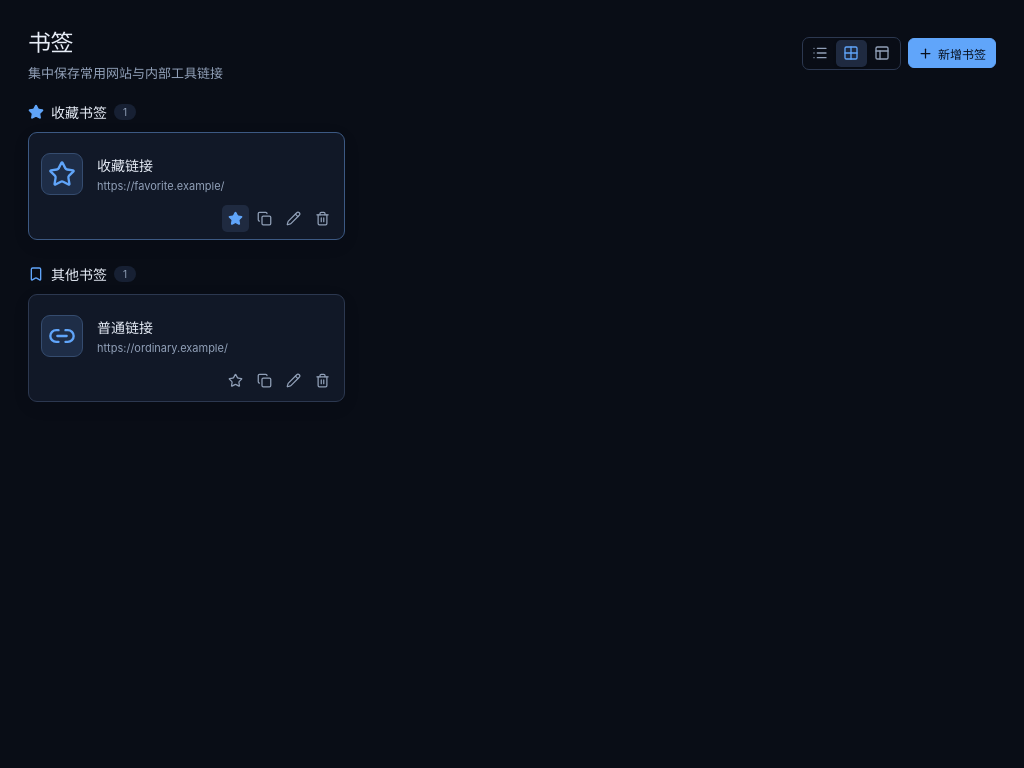
BookmarksPage › reads a clipboard image as a custom icon
This screenshot has width=1024, height=768.
Expected: the text "普通链接" is shown, [97,318,153,336]
Click the button "新增书签" at (952, 53), box [908,38,996,68]
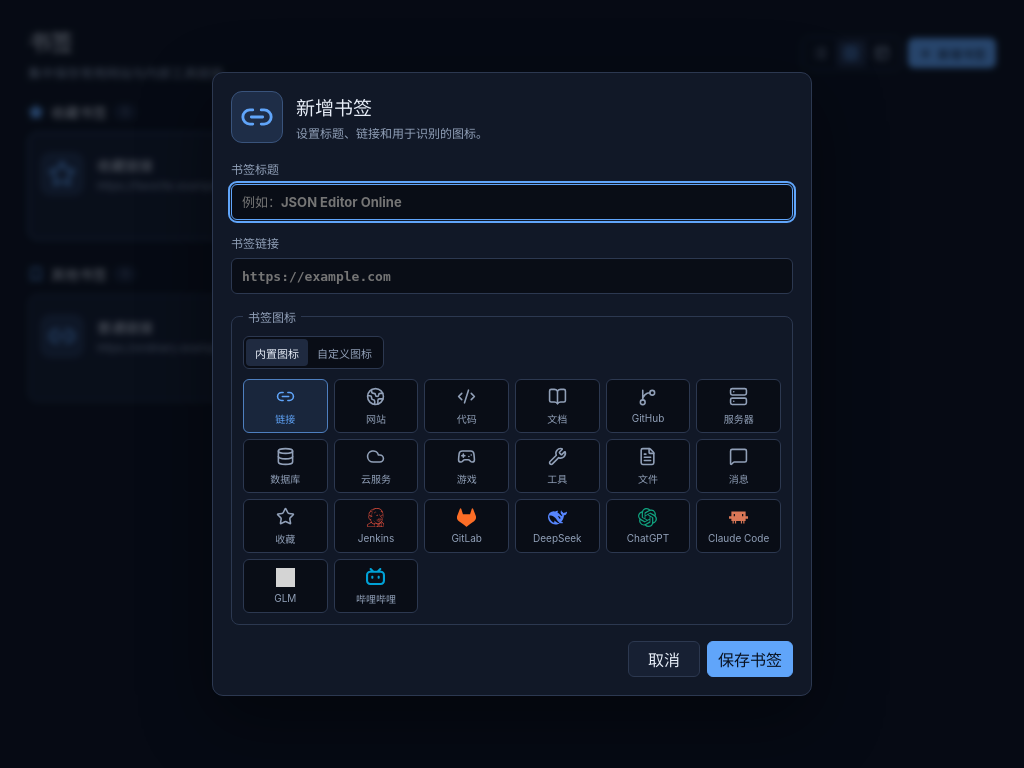
Click the button "自定义图标" at (344, 352), box [308,339,381,366]
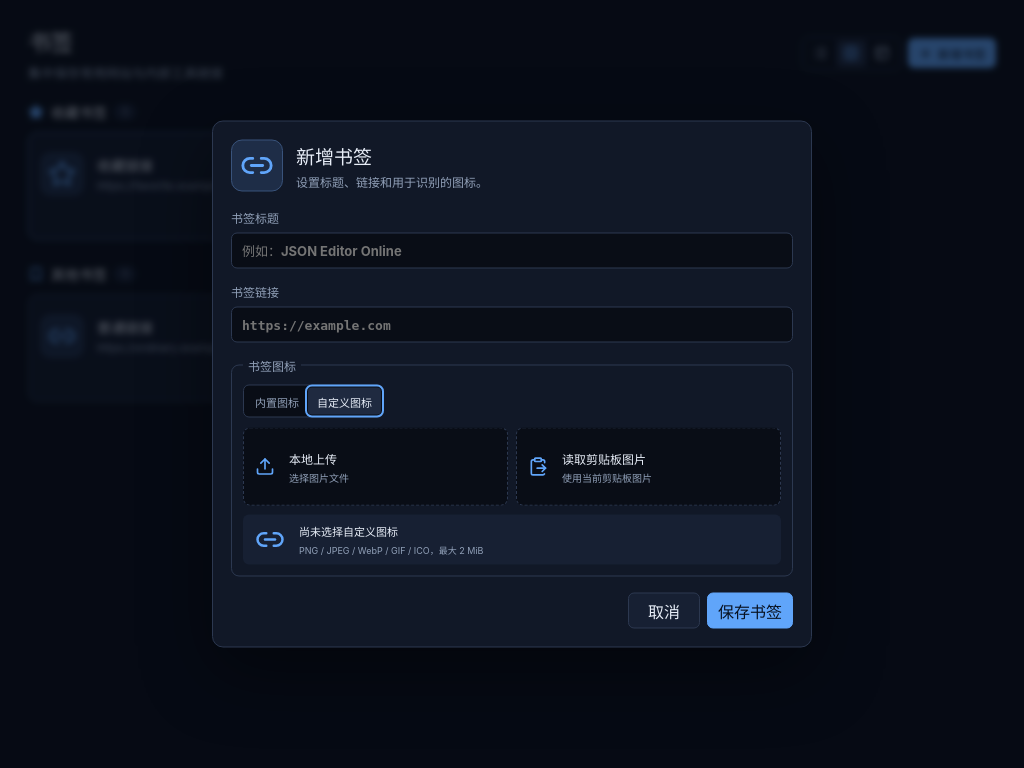
Click the button "读取剪贴板图片 使用当前剪贴板图片" at (648, 466), box [516,428,781,506]
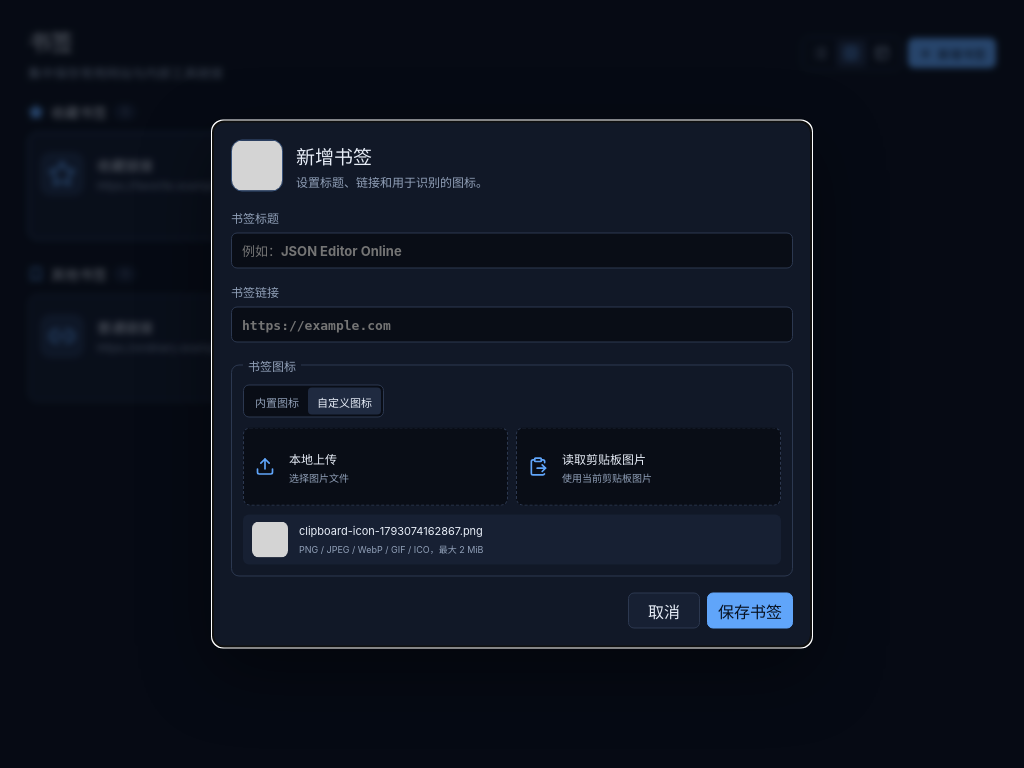
Expected: the text "clipboard-icon-1793074162867.png" is shown, [299,523,483,537]
